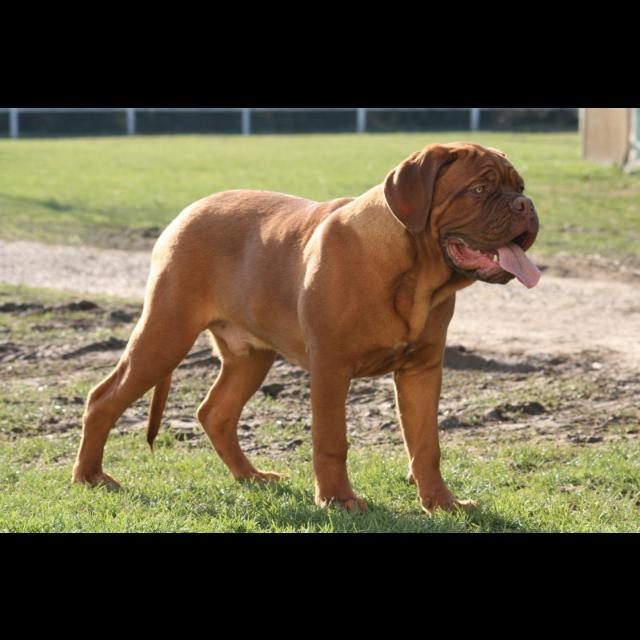dogue_de_bordeaux: (72, 140, 542, 518)
